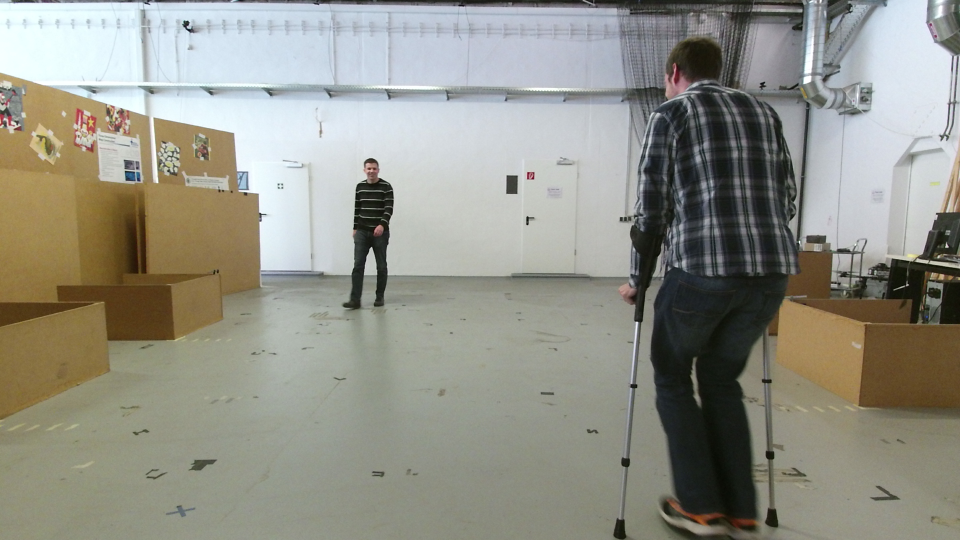crutches: (601, 32, 803, 540)
